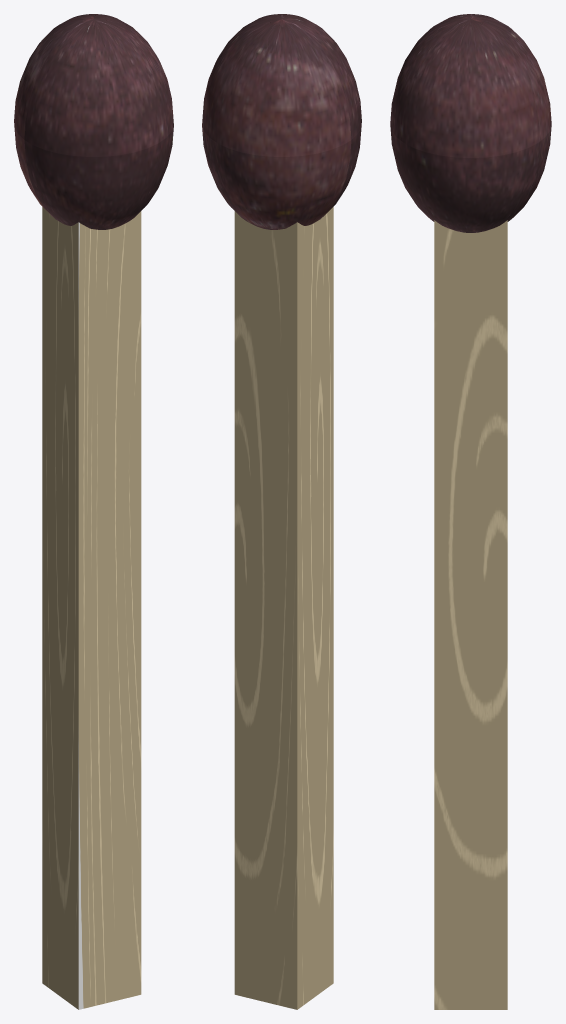
File: allumette ooficiel.fbx
3 renders of one model, left to right at view 1: azimuth 30°, elevation 25°; view 2: azimuth 150°, elevation 25°; view 3: azimuth 270°, elevation 25°, orthographic.
Visible parts, largest first — view 1: Cube; view 2: Cube; view 3: Cube.
Part boxes in pixels (box(x1,y1,x2,y2)): Cube: box(14, 14, 173, 1009); Cube: box(202, 14, 361, 1009); Cube: box(390, 14, 551, 1009).
Bounding box in the file's own units: 65.86 × 439 × 65.86.
2 materials, 2 textured.
